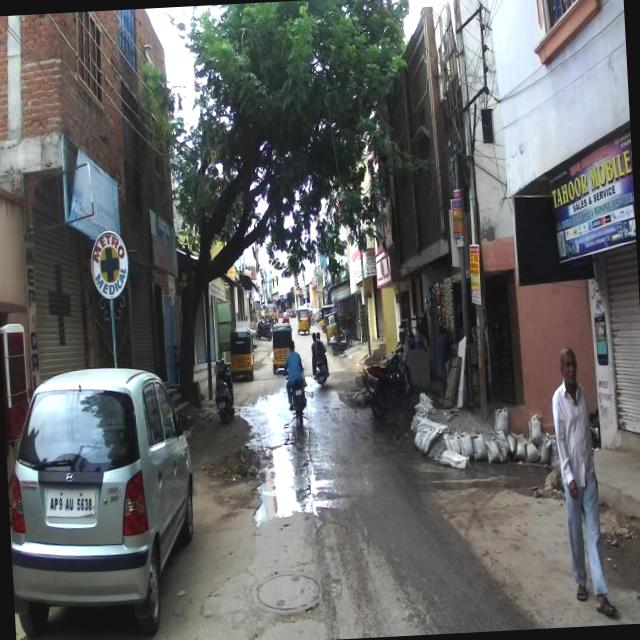pothole: (206, 428, 310, 528), (240, 396, 298, 432)
sewer cover: (256, 573, 322, 618)
